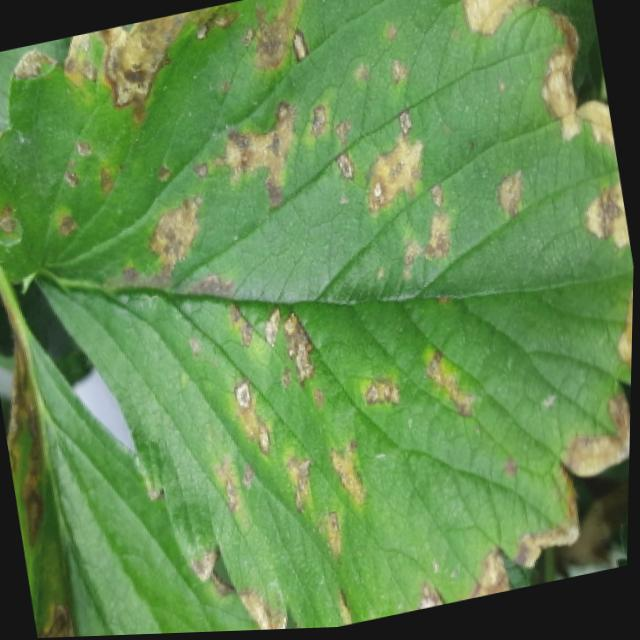Angular Leafspot: (0, 0, 635, 632), (0, 298, 270, 639)
